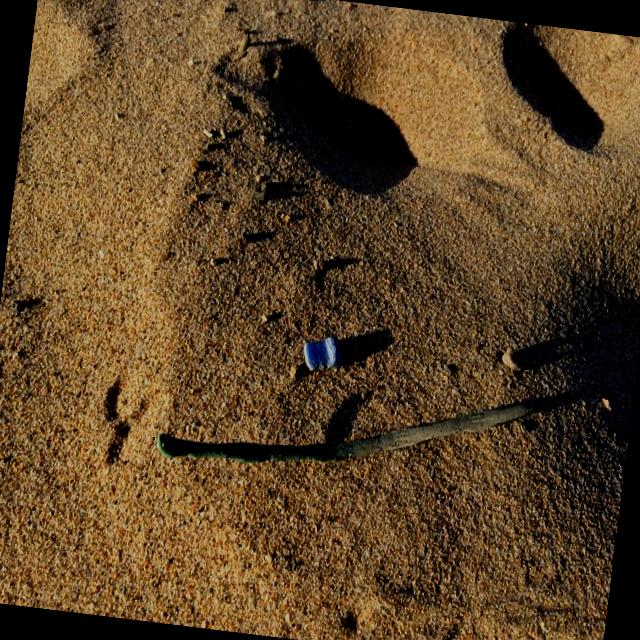Trash: (300, 332, 342, 376)
